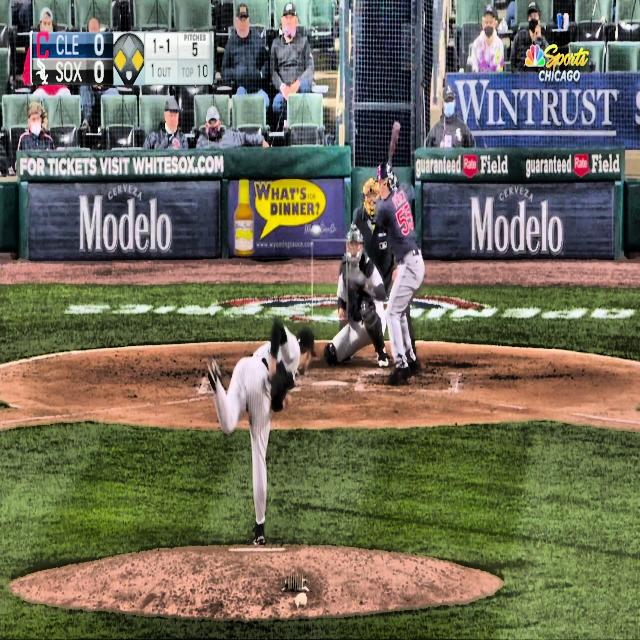baseball: (311, 224, 321, 237)
